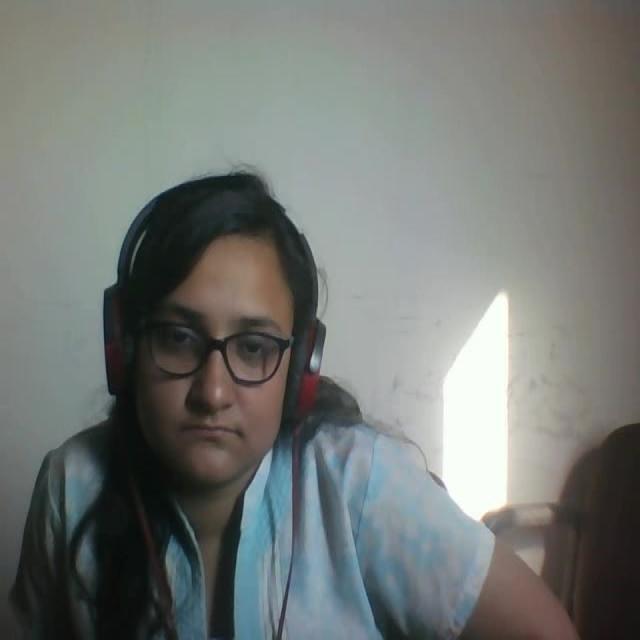Engaged: (96, 162, 358, 494)
